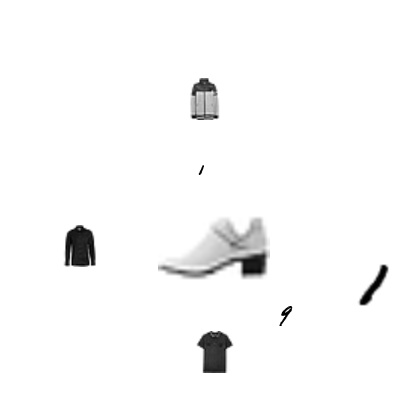1: (346, 257, 402, 313), (194, 163, 208, 177)
9: (271, 300, 299, 328)
Ankle_boot: (158, 190, 270, 302)
Coat: (183, 78, 225, 120)
Shirt: (58, 225, 100, 267)
T-shirt/top: (194, 331, 236, 373)
